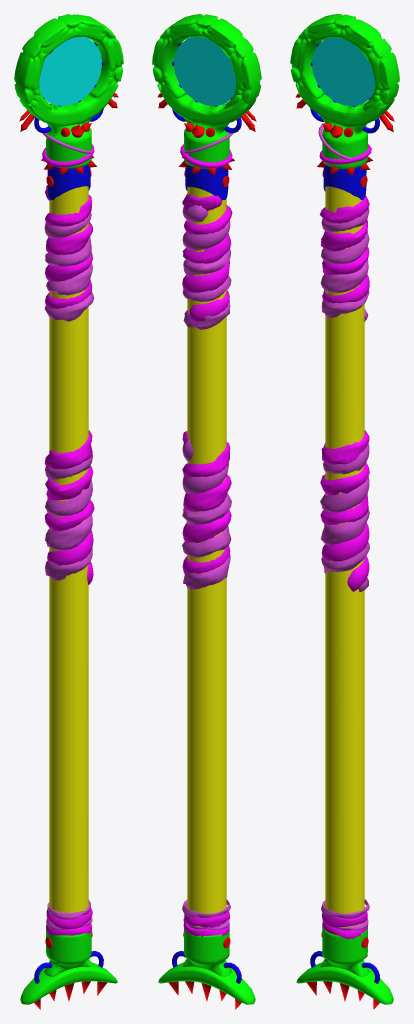
Rendered from Voidstaff.dae.
3 renders of one model, left to right at view 1: azimuth 30°, elevation 25°; view 2: azimuth 150°, elevation 25°; view 3: azimuth 330°, elevation 25°, orthographic.
Visible parts, largest first — view 1: pCylinder1, pCube2Shape, pTorusShape3, pTorusShape2, pCylinder13, pTorusShape1, pConeShape2; view 2: pCylinder1, pCube2Shape, pTorusShape3, pTorusShape2, pCylinder13, pTorusShape1, pConeShape2; view 3: pCylinder1, pCube2Shape, pTorusShape3, pTorusShape2, pCylinder13, pTorusShape1, pConeShape2.
Part boxes in pixels (<box>): pCylinder1: <box>49,186,88,912</box>; pCube2Shape: <box>14,14,123,1004</box>; pTorusShape3: <box>42,144,94,935</box>; pTorusShape2: <box>43,133,94,929</box>; pCylinder13: <box>39,37,101,105</box>; pTorusShape1: <box>34,42,103,983</box>; pConeShape2: <box>19,93,118,1009</box>; pCylinder1: <box>187,187,226,927</box>; pCube2Shape: <box>152,14,261,1004</box>; pTorusShape3: <box>180,144,232,937</box>; pTorusShape2: <box>182,133,232,929</box>; pCylinder13: <box>173,37,235,105</box>; pTorusShape1: <box>172,43,241,983</box>; pConeShape2: <box>157,93,256,1009</box>; pCylinder1: <box>325,186,364,927</box>; pCube2Shape: <box>290,14,399,1004</box>; pTorusShape3: <box>319,144,371,938</box>; pTorusShape2: <box>318,123,369,930</box>; pCylinder13: <box>312,37,375,106</box>; pTorusShape1: <box>310,43,379,983</box>; pConeShape2: <box>295,93,394,1009</box>.
Size of the model in its own units: 20.57 by 193 by 10.44.
